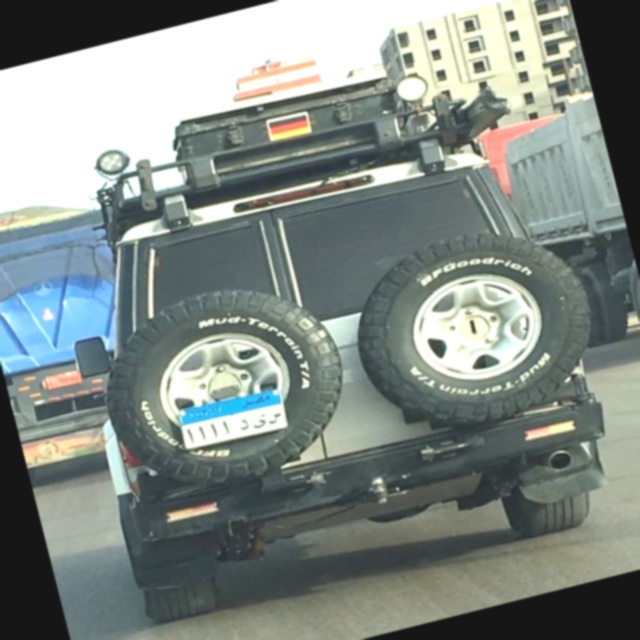License Plate: (173, 383, 292, 454)
